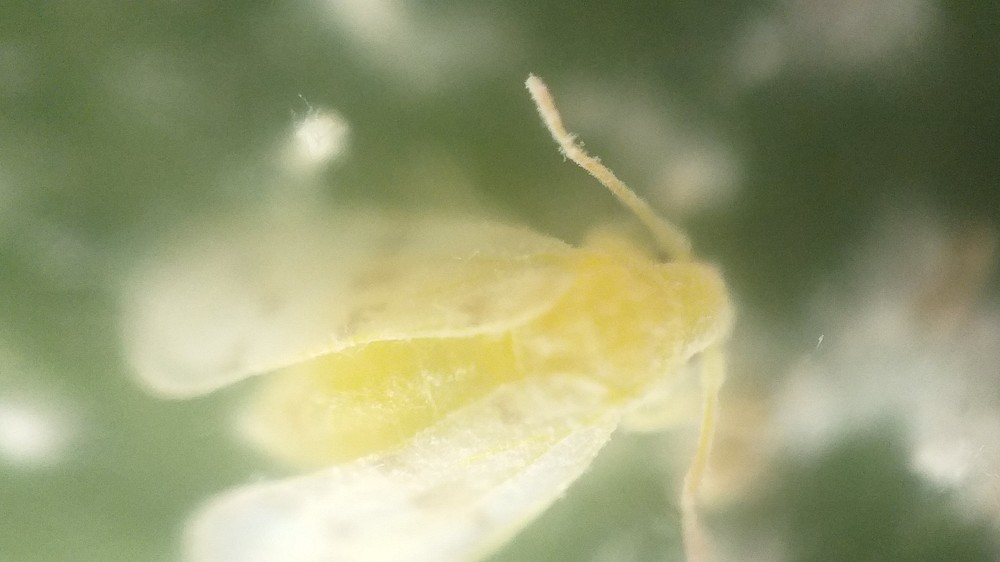Mosca Blanca: (100, 71, 780, 562)
